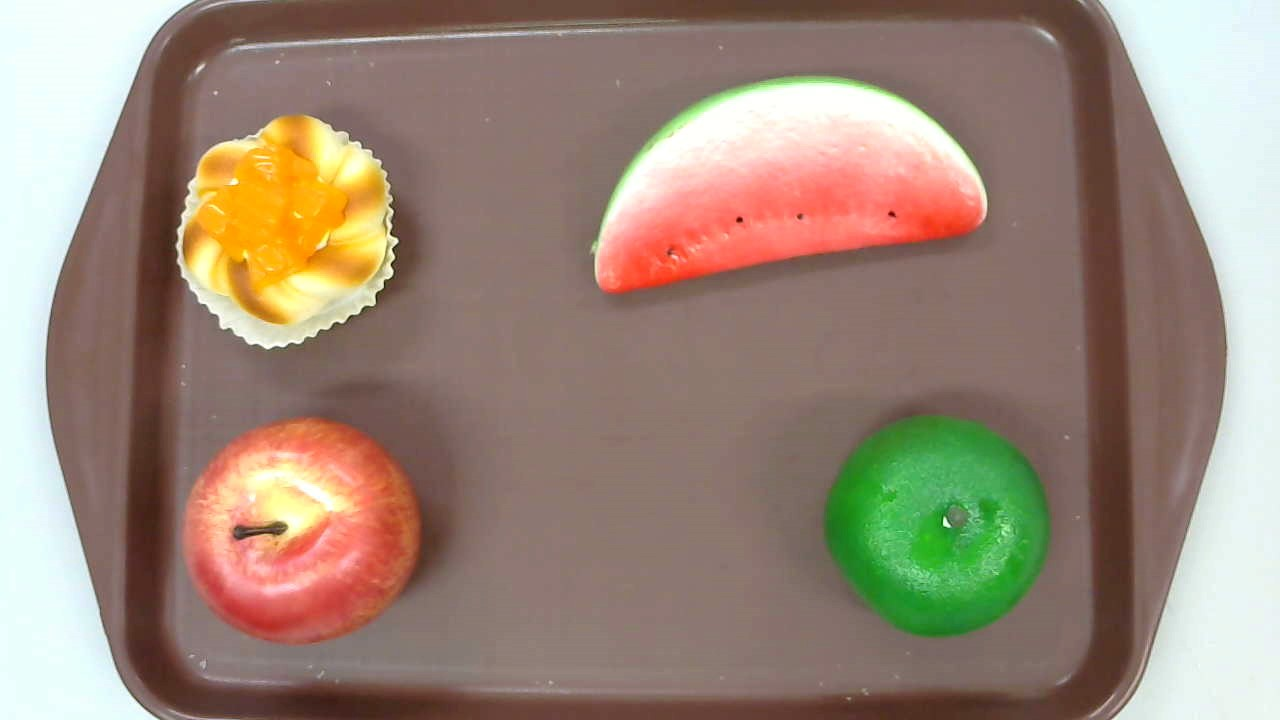green orange: (824, 412, 1053, 635)
mango tart: (174, 115, 400, 354)
red apple: (180, 416, 422, 646)
water melon: (590, 72, 989, 296)
